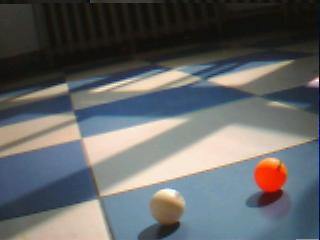oball: (254, 158, 287, 194)
